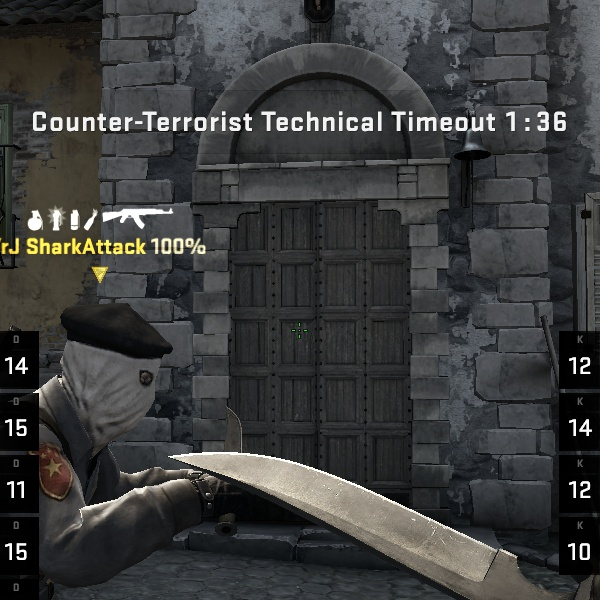ct_head: (35, 296, 179, 424)
t_body: (0, 299, 218, 595)
t_head: (36, 299, 168, 430)
